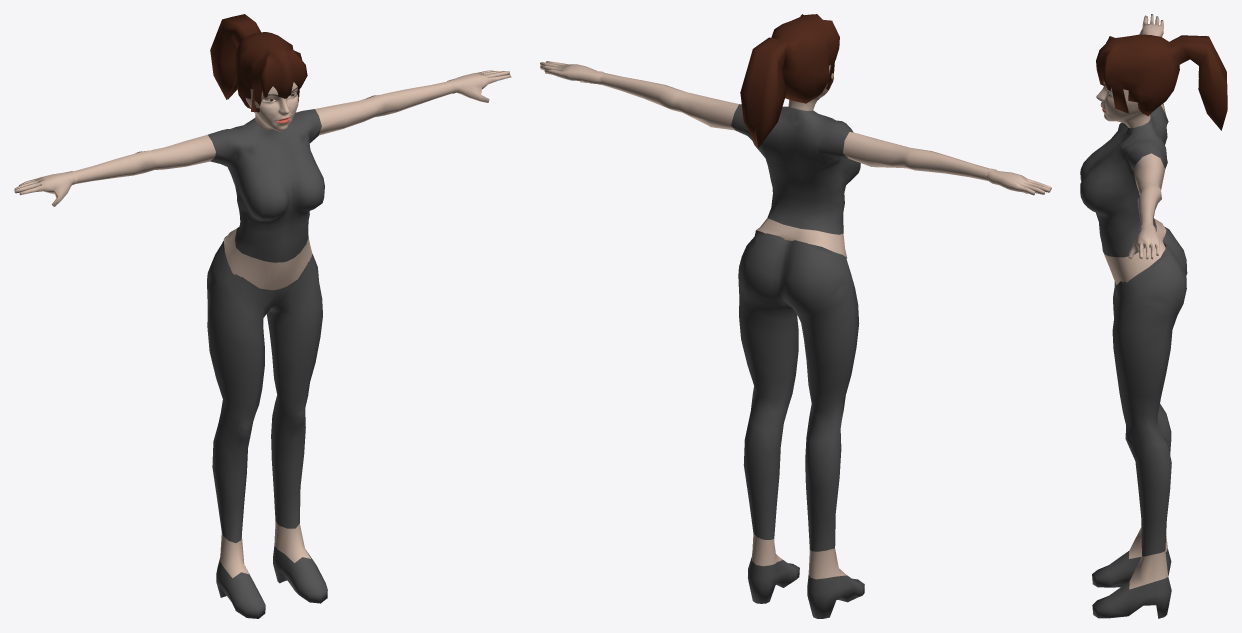
The model's file is noBones(useToExtractMaterial).fbx.
3 renders of one model, left to right at view 1: azimuth 30°, elevation 25°; view 2: azimuth 150°, elevation 25°; view 3: azimuth 270°, elevation 25°, orthographic. The views are drawn at different scales.
Visible parts, largest first — view 1: Cube.001, Cube.002, Cube.003, Cube.000; view 2: Cube.001, Cube.002, Cube.003; view 3: Cube.001, Cube.002, Cube.003, Cube.000.
Part boxes in pixels (x1,y1,x2,y2): Cube.001: (14, 70, 511, 618); Cube.002: (69, 80, 454, 290); Cube.003: (210, 14, 307, 112); Cube.000: (245, 82, 298, 131); Cube.001: (540, 61, 1051, 618); Cube.002: (598, 73, 995, 258); Cube.003: (740, 14, 839, 147); Cube.001: (1092, 14, 1187, 618); Cube.002: (1080, 103, 1168, 284); Cube.003: (1096, 34, 1227, 130); Cube.000: (1096, 81, 1150, 128).
Bounding box in the file's own units: 662 × 717 × 170.
